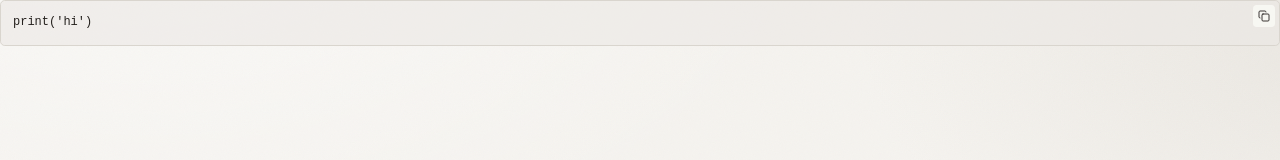
Scenario: Markdown › copies a code block
Click the button named "Copy code" at (1264, 16), box [1252, 4, 1276, 28]
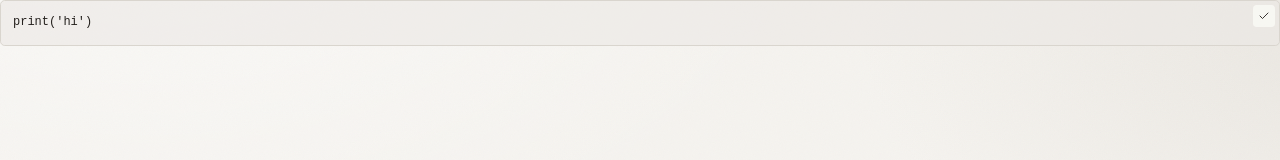
Check: the button named "Copied" is shown, box [1252, 4, 1276, 28]
